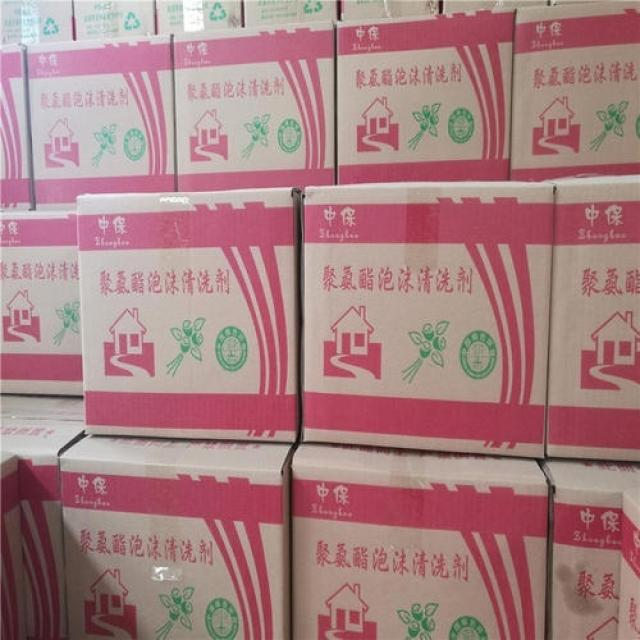box: (300, 179, 554, 458), (77, 187, 301, 442), (292, 442, 549, 639), (60, 433, 298, 640), (337, 9, 517, 184), (538, 174, 639, 460), (173, 20, 337, 191), (24, 33, 175, 211), (509, 3, 640, 180), (0, 393, 84, 640), (539, 458, 640, 640), (0, 211, 83, 397), (0, 44, 33, 210), (0, 0, 76, 45), (617, 492, 640, 639), (72, 0, 156, 40), (156, 0, 243, 35), (242, 0, 339, 27), (338, 0, 440, 19), (442, 0, 550, 13), (549, 1, 639, 6)
